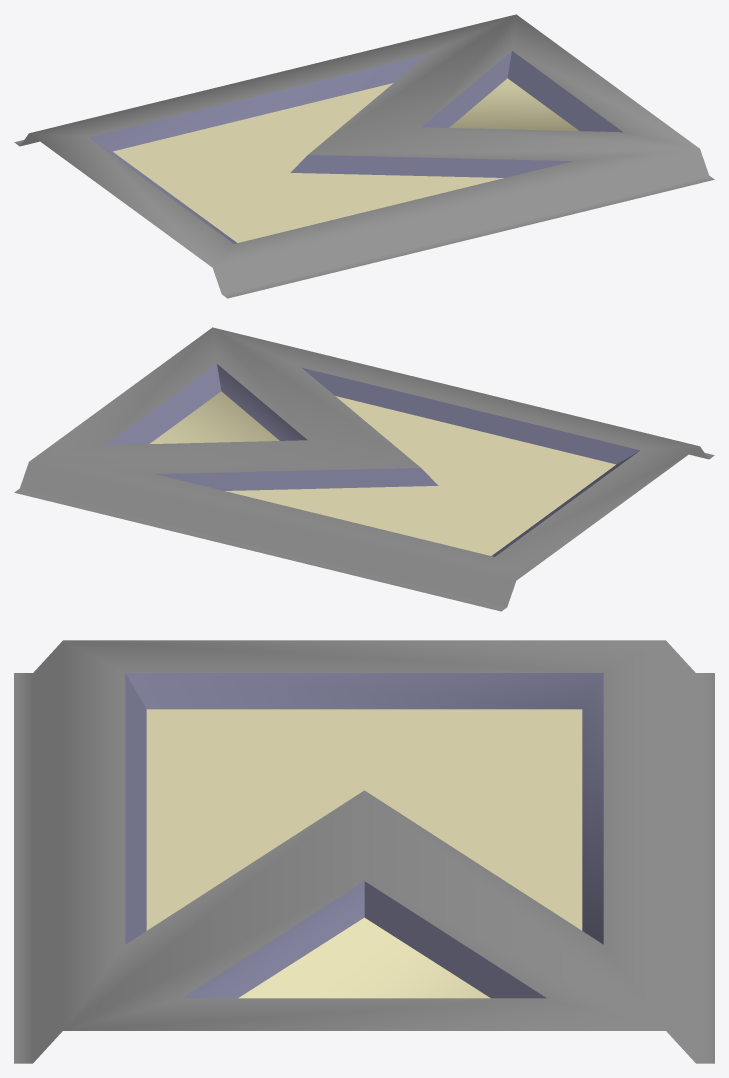
Rendered from hangarMiddle2_top.fbx.
3 renders of one model, top to bottom at view 1: azimuth 30°, elevation 25°; view 2: azimuth 150°, elevation 25°; view 3: azimuth 270°, elevation 25°, orthographic. The views are drawn at different scales.
Visible parts, largest first — view 1: Cube.010; view 2: Cube.010; view 3: Cube.010.
Boxes of the visible parts, <box> form: Cube.010: <box>14,14,714,298</box>; Cube.010: <box>14,327,714,611</box>; Cube.010: <box>14,640,714,1063</box>.
Bounding box in the file's own units: 538 × 20.98 × 408.
